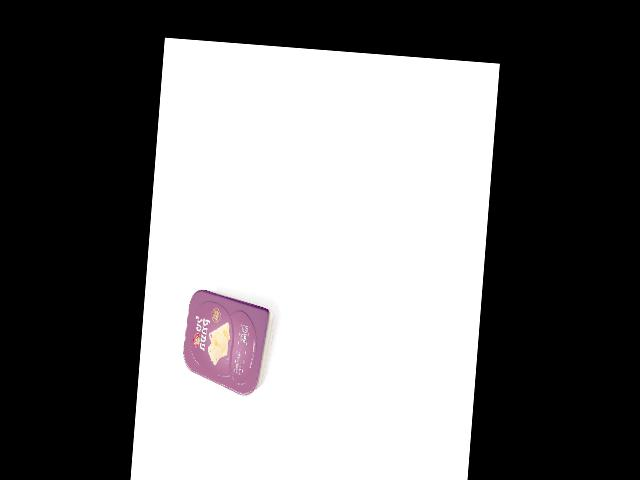cheese: (179, 288, 276, 397)
